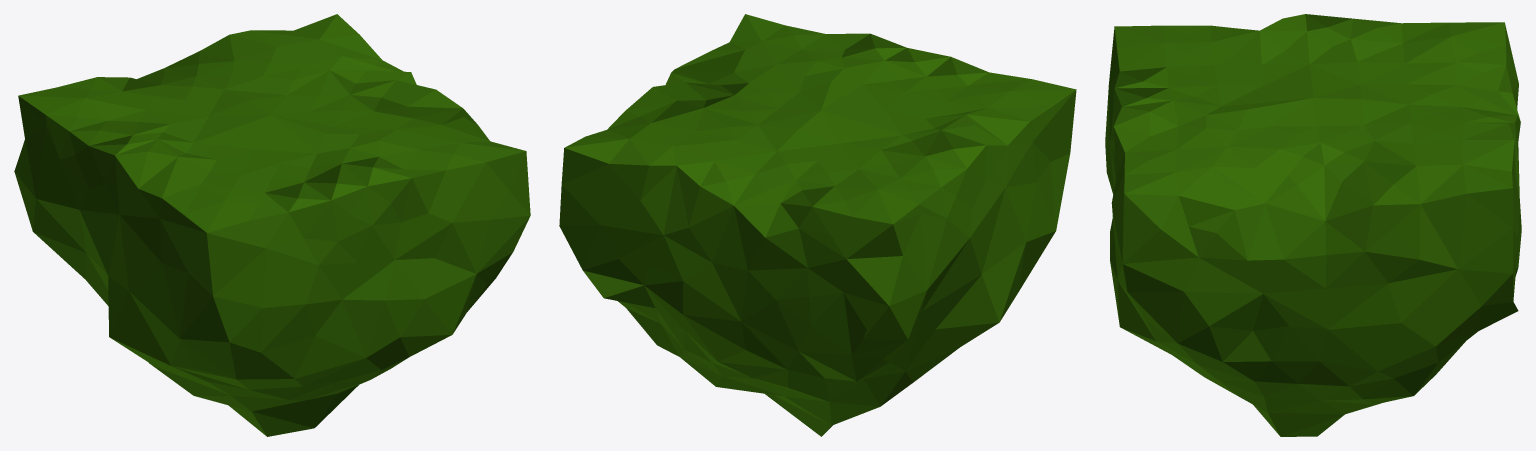
File: plain.fbx
3 renders of one model, left to right at view 1: azimuth 30°, elevation 25°; view 2: azimuth 150°, elevation 25°; view 3: azimuth 270°, elevation 25°, orthographic. The views are drawn at different scales.
Visible parts, largest first — view 1: Икосфера; view 2: Икосфера; view 3: Икосфера.
Boxes of the visible parts, box(x1,y1,x2,y2) form: Икосфера: box(14, 14, 530, 436); Икосфера: box(559, 14, 1076, 436); Икосфера: box(1105, 14, 1521, 436).
Size of the model in its own units: 137 by 125 by 136.
